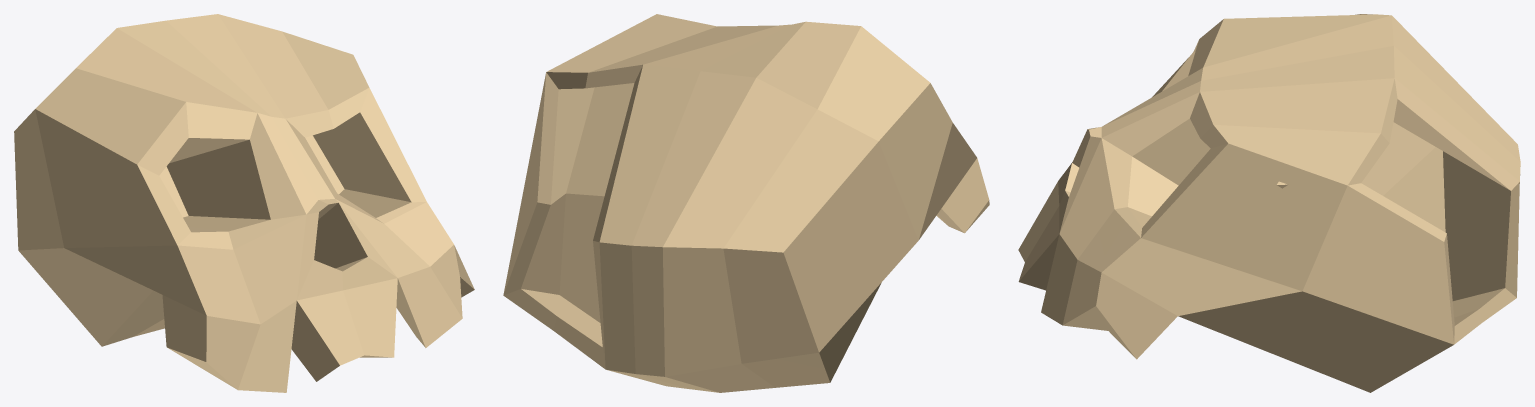
Rendered from Skull_2__0.glb.
The picture shows the model from 3 angles, left to right: view 1: azimuth 30°, elevation 25°; view 2: azimuth 150°, elevation 25°; view 3: azimuth 270°, elevation 25°; orthographic projection. The views are drawn at different scales.
Parts seen in each view (by area): view 1: Skull_2__0; view 2: Skull_2__0; view 3: Skull_2__0.
Boxes of the visible parts, x1,y1,x2,y2 form: Skull_2__0: [14, 14, 474, 392]; Skull_2__0: [503, 14, 989, 392]; Skull_2__0: [1018, 14, 1520, 392].
Bounding box in the file's own units: 0.1842 × 0.1611 × 0.2374.
Materials: 1 (1 with a texture image).
